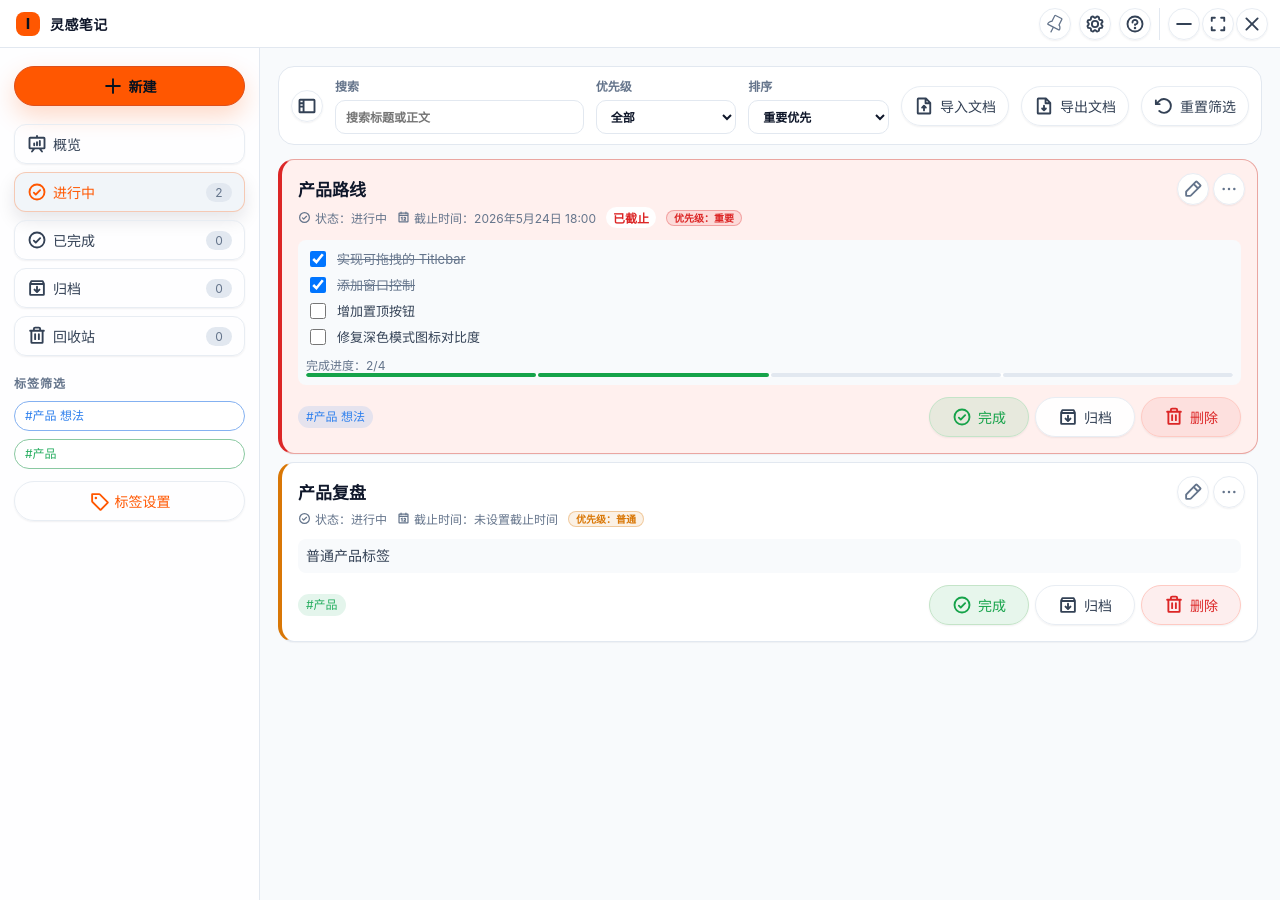
Scenario: App search query › 搜索框支持 tag:"..." 匹配带空格标签
The width and height of the screenshot is (1280, 900).
Type "tag:\"产品 想法\"" into the search field labelled "搜索" at (459, 117), box 335,100 -> 584,134
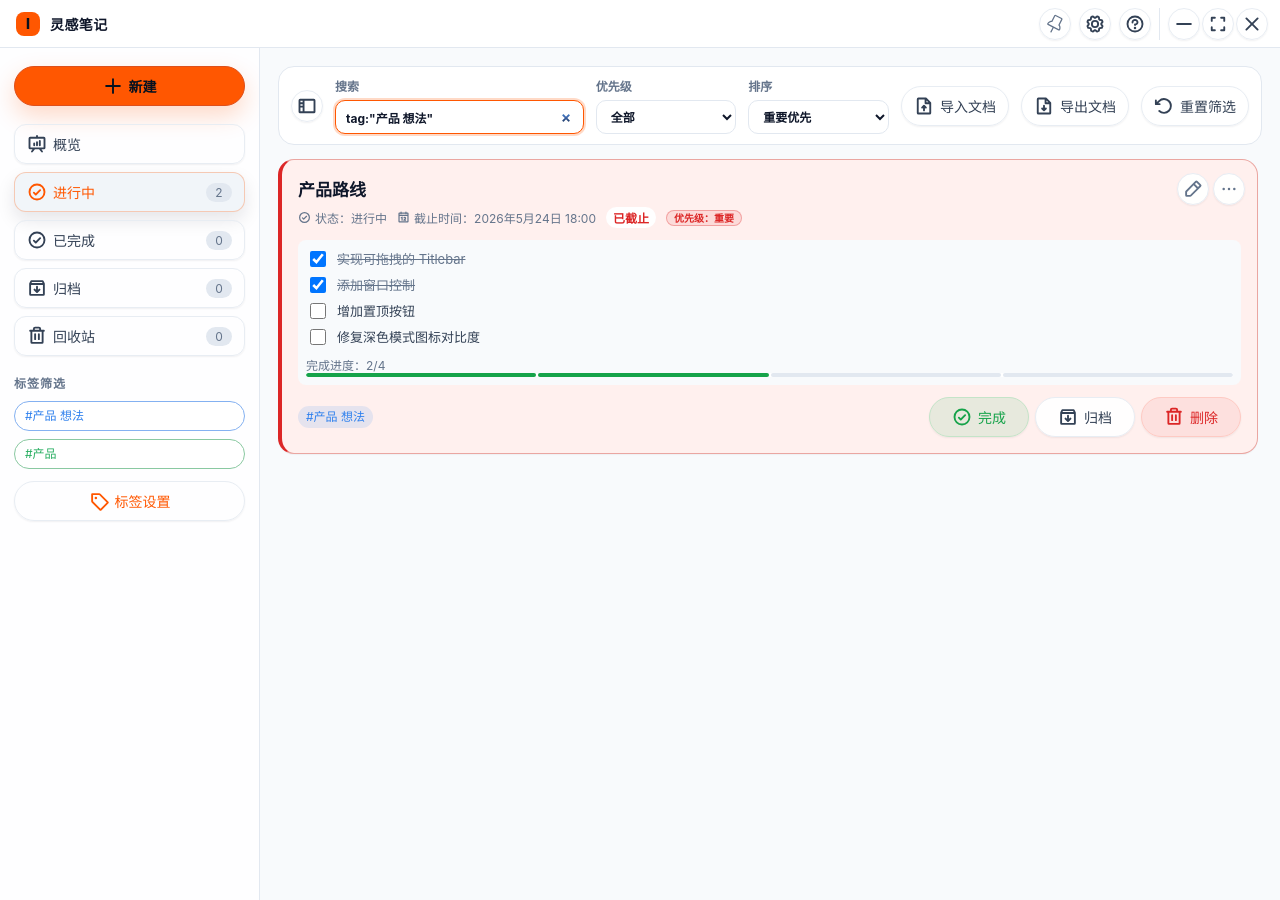
Expected: the button "产品路线" is shown, 298,176 -> 1181,201
Expected: the button "产品复盘" is gone
